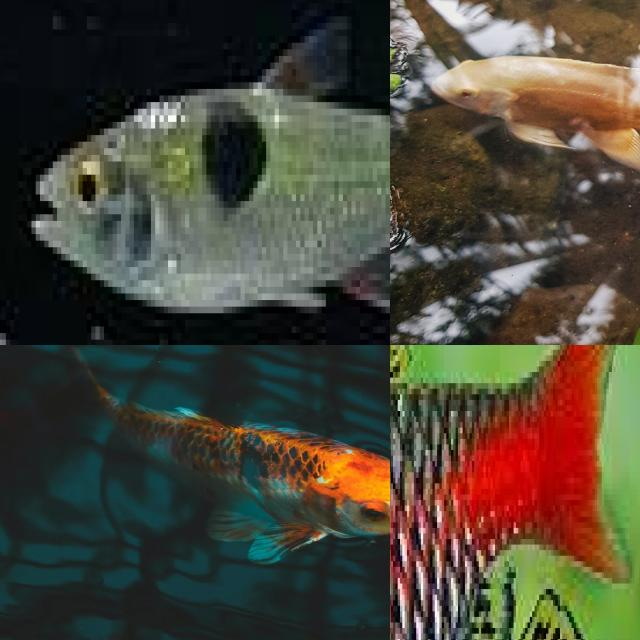fish: (0, 0, 390, 345), (158, 345, 390, 640), (459, 25, 640, 345), (390, 345, 414, 586)
